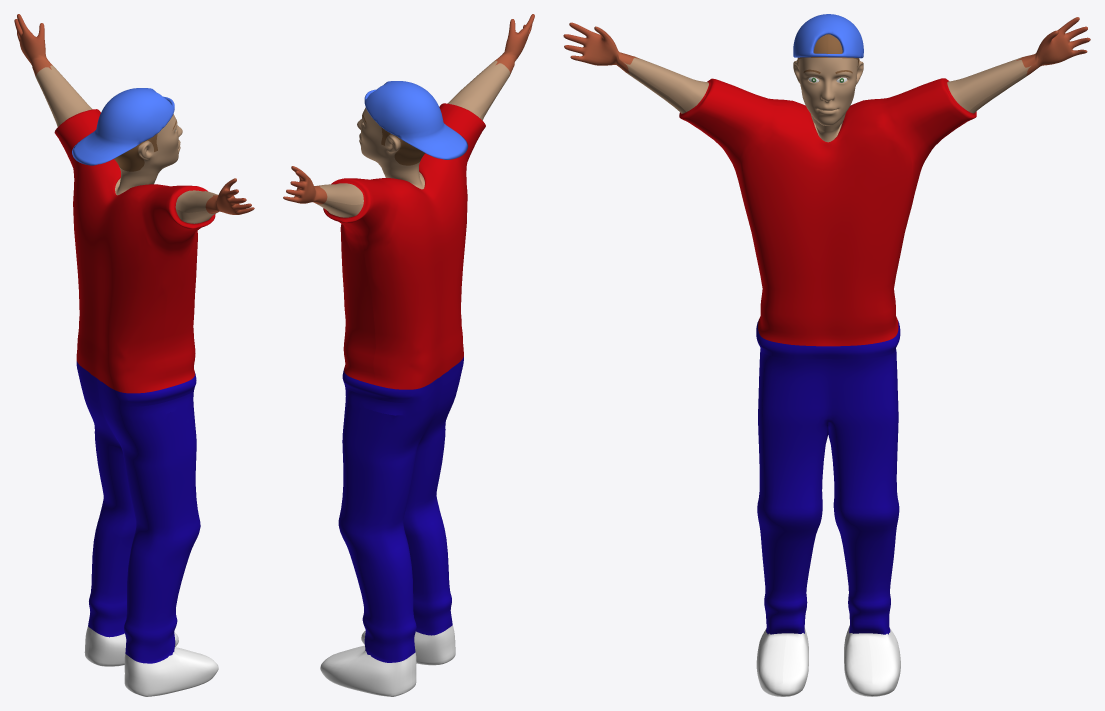
The model's file is PersonajePoseMeta.fbx.
3 views of the same model, side by side, from view 1: azimuth 30°, elevation 25°; view 2: azimuth 150°, elevation 25°; view 3: azimuth 270°, elevation 25° (orthographic). The views are drawn at different scales.
Visible parts, largest first — view 1: Cuerpo completo smooth.004; view 2: Cuerpo completo smooth.004; view 3: Cuerpo completo smooth.004.
Boxes of the visible parts, bbox=[...] form: Cuerpo completo smooth.004: bbox=[14, 14, 254, 696]; Cuerpo completo smooth.004: bbox=[283, 14, 534, 696]; Cuerpo completo smooth.004: bbox=[563, 14, 1090, 696].
Size of the model in its own units: 36.08 by 169 by 124.
